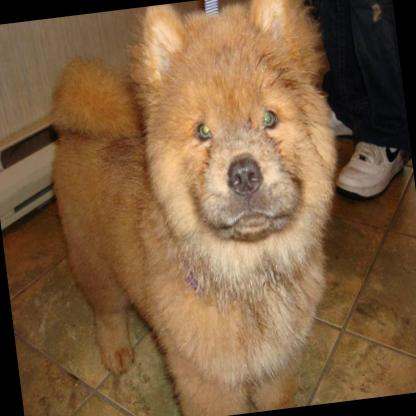chow: (28, 0, 368, 416)
